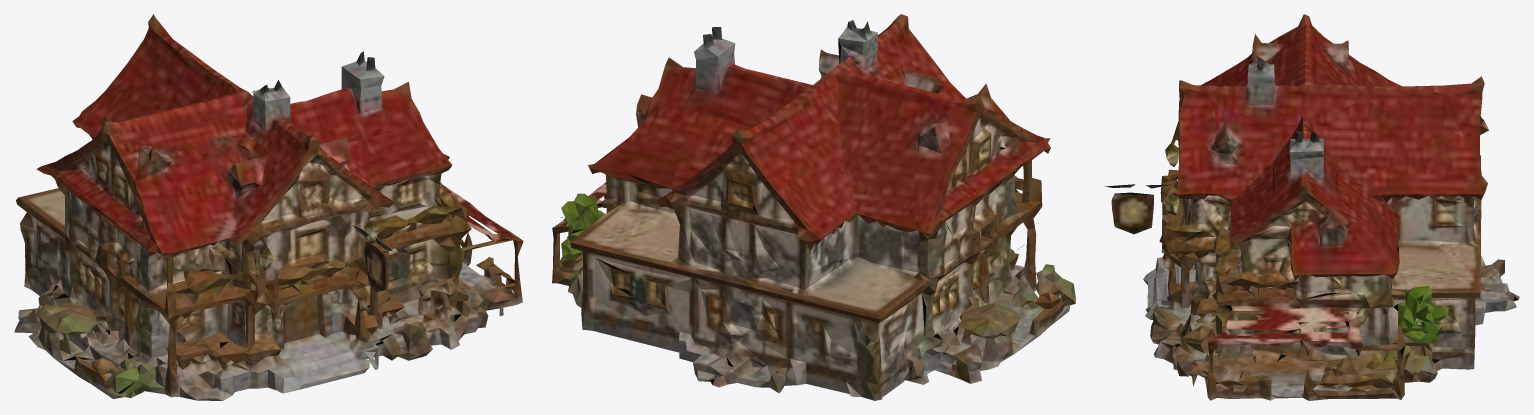
The model's file is inn_lod2.glb.
3 views of the same model, side by side, from view 1: azimuth 30°, elevation 25°; view 2: azimuth 150°, elevation 25°; view 3: azimuth 270°, elevation 25° (orthographic). The views are drawn at different scales.
Parts seen in each view (by area): view 1: lod; view 2: lod; view 3: lod.
Boxes of the visible parts, bbox=[...] form: lod: bbox=[14, 14, 523, 400]; lod: bbox=[552, 14, 1075, 400]; lod: bbox=[1104, 14, 1519, 400].
Bounding box in the file's own units: 1.87 × 1.12 × 1.73.
1 material, 1 textured.
